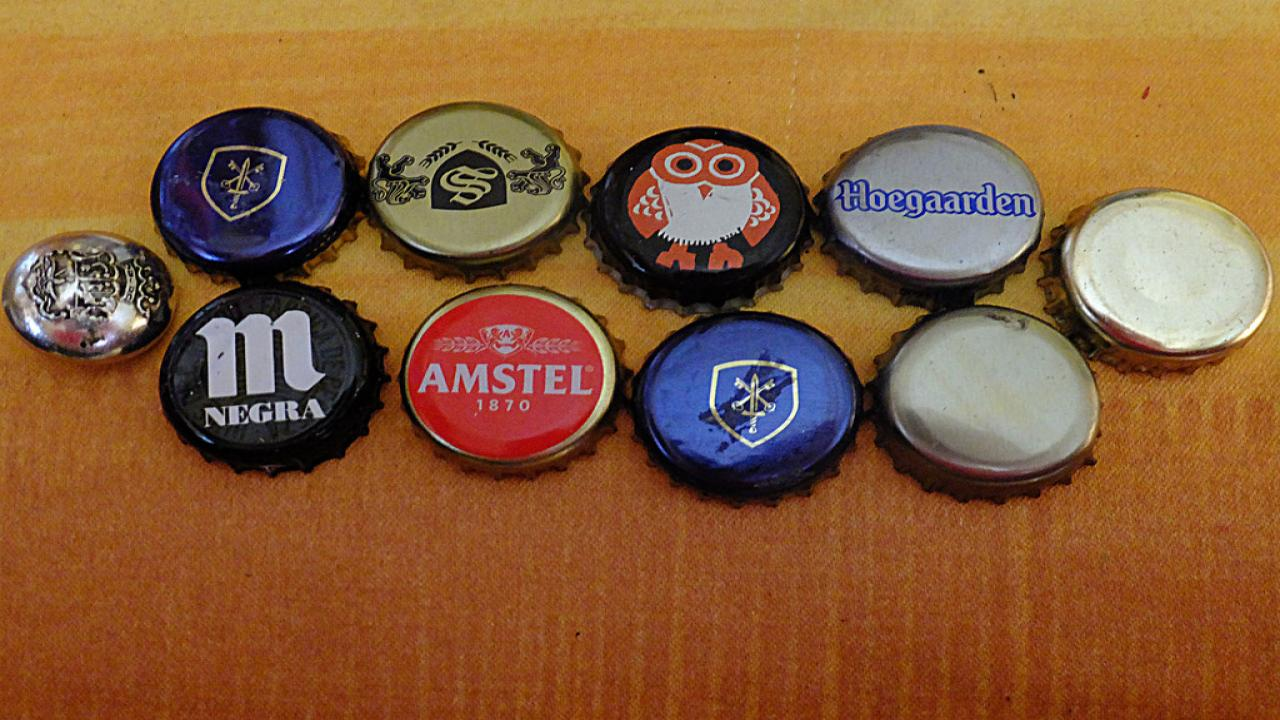bottle_cap: (870, 307, 1102, 503), (635, 313, 867, 507), (398, 283, 628, 478), (1045, 185, 1275, 376), (584, 122, 815, 311), (160, 287, 386, 474), (364, 101, 590, 283), (820, 125, 1046, 306), (151, 105, 369, 283)
